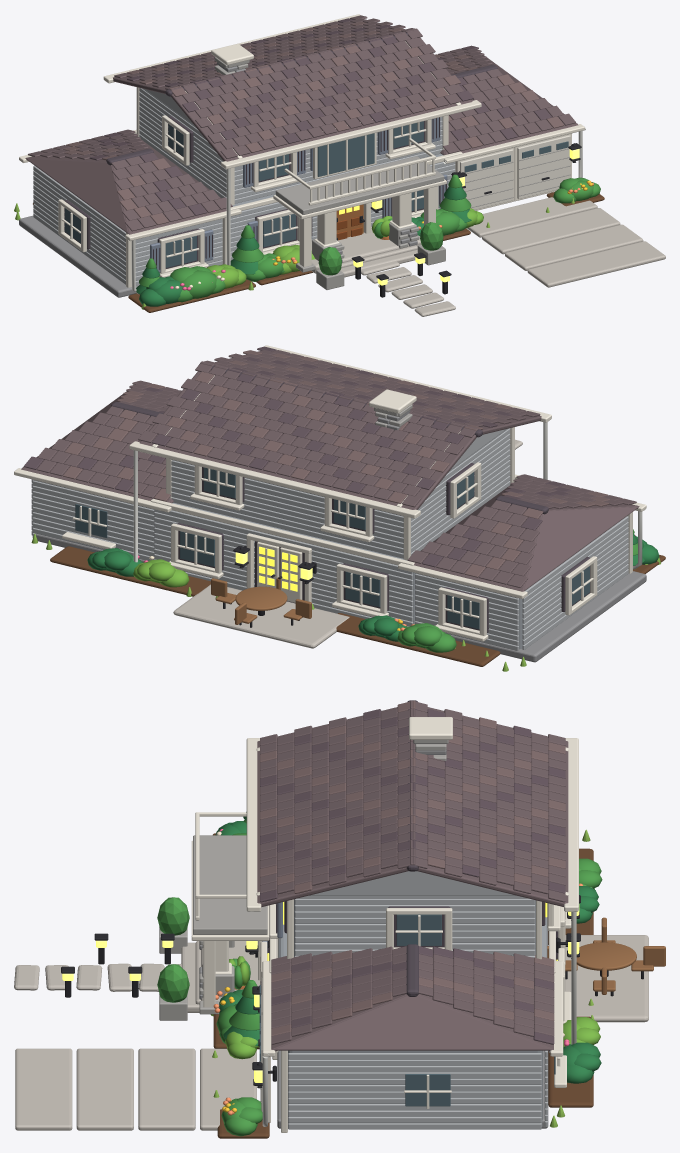
Rendered from CouchGuys_House_03.fbx.
3 views of the same model, one above another, from view 1: azimuth 30°, elevation 25°; view 2: azimuth 150°, elevation 25°; view 3: azimuth 270°, elevation 25° (orthographic). The views are drawn at different scales.
Parts seen in each view (by area): view 1: Shingles_Main, Shingles_LeftWing, Shingles_Garage, Entrance_Balcony_Slab, Roof_LeftWing_Left, Driveway_Slab_03, Roof_Main_Front, Driveway_Slab_01, Driveway_Slab_02, GarageDoor_Double_Panel.001, GarageDoor_Double_Panel, Driveway_Slab_00 (+30 smaller); view 2: Shingles_Main, Shingles_LeftWing, Shingles_Garage, Rear_Patio, Roof_LeftWing_Left, Roof_Main_Back, Foundation_Main, Main_Eave_Back, Storey_Belt_Back, Bed_BackL, Bed_BackR, CentralBack_Board_11 (+46 smaller); view 3: Shingles_Main, Shingles_Garage, Roof_Garage_Right, Entrance_Balcony_Slab, Driveway_Slab_02, Driveway_Slab_03, Driveway_Slab_01, Rear_Patio, Driveway_Slab_00, Main_Gable_Right, Main_Eave_Front, GarageOuter_Board_01 (+42 smaller).
Boxes of the visible parts, <box> form: Shingles_Main: <box>114,15,473,158</box>; Shingles_LeftWing: <box>28,129,232,231</box>; Shingles_Garage: <box>435,45,575,153</box>; Entrance_Balcony_Slab: <box>275,156,444,214</box>; Roof_LeftWing_Left: <box>26,158,128,233</box>; Driveway_Slab_03: <box>527,241,665,287</box>; Roof_Main_Front: <box>171,37,472,161</box>; Driveway_Slab_01: <box>482,208,620,254</box>; Driveway_Slab_02: <box>505,224,643,270</box>; GarageDoor_Double_Panel.001: <box>517,135,570,199</box>; GarageDoor_Double_Panel: <box>460,149,513,209</box>; Driveway_Slab_00: <box>467,197,597,237</box>; Shingles_Main: <box>138,346,540,507</box>; Shingles_LeftWing: <box>408,474,636,587</box>; Shingles_Garage: <box>24,380,181,501</box>; Rear_Patio: <box>173,584,349,648</box>; Roof_LeftWing_Left: <box>523,506,638,590</box>; Roof_Main_Back: <box>139,370,476,509</box>; Foundation_Main: <box>35,533,646,662</box>; Main_Eave_Back: <box>129,441,420,518</box>; Storey_Belt_Back: <box>150,499,414,565</box>; Bed_BackL: <box>336,613,500,666</box>; Bed_BackR: <box>50,546,210,596</box>; CentralBack_Board_11: <box>154,509,413,574</box>; Shingles_Main: <box>260,700,565,902</box>; Shingles_Garage: <box>271,946,554,1044</box>; Roof_Garage_Right: <box>273,995,551,1050</box>; Entrance_Balcony_Slab: <box>193,835,267,934</box>; Driveway_Slab_02: <box>76,1048,133,1130</box>; Driveway_Slab_03: <box>15,1048,72,1130</box>; Driveway_Slab_01: <box>138,1048,195,1130</box>; Rear_Patio: <box>565,935,648,1022</box>; Driveway_Slab_00: <box>200,1048,256,1130</box>; Main_Gable_Right: <box>308,871,516,895</box>; Main_Eave_Front: <box>246,738,261,911</box>; GarageOuter_Board_01: <box>288,1116,541,1123</box>.
Size of the model in its own units: 2442 by 826 by 2180.
